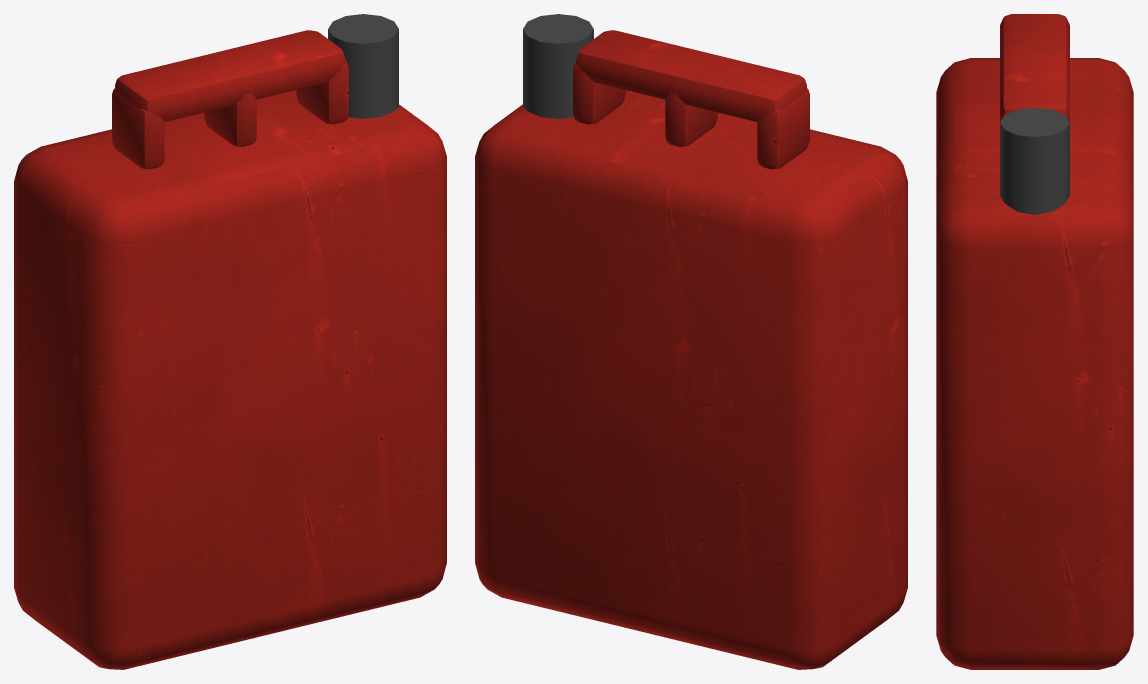
Rendered from jerrycan.glb.
The picture shows the model from 3 angles, left to right: view 1: azimuth 30°, elevation 25°; view 2: azimuth 150°, elevation 25°; view 3: azimuth 270°, elevation 25°; orthographic projection.
Visible parts, largest first — view 1: JerryCan; view 2: JerryCan; view 3: JerryCan.
Part boxes in pixels (x1,y1,x2,y2): JerryCan: [14, 14, 446, 669]; JerryCan: [475, 14, 907, 669]; JerryCan: [936, 14, 1133, 669].
Size of the model in its own units: 0.35 by 0.51 by 0.17.
2 materials, 1 textured.
